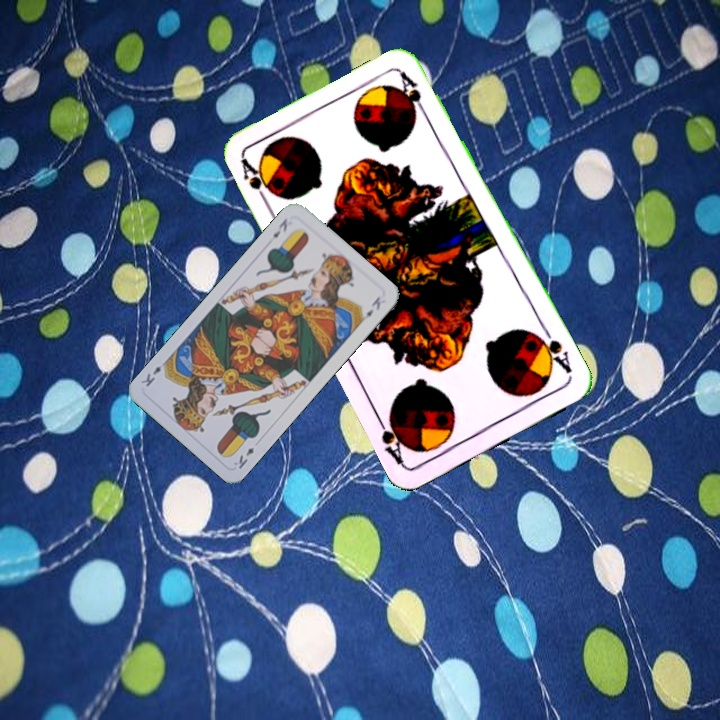EK: (229, 443, 257, 471), (269, 214, 290, 241)
SA: (531, 323, 575, 376), (237, 155, 276, 210)
